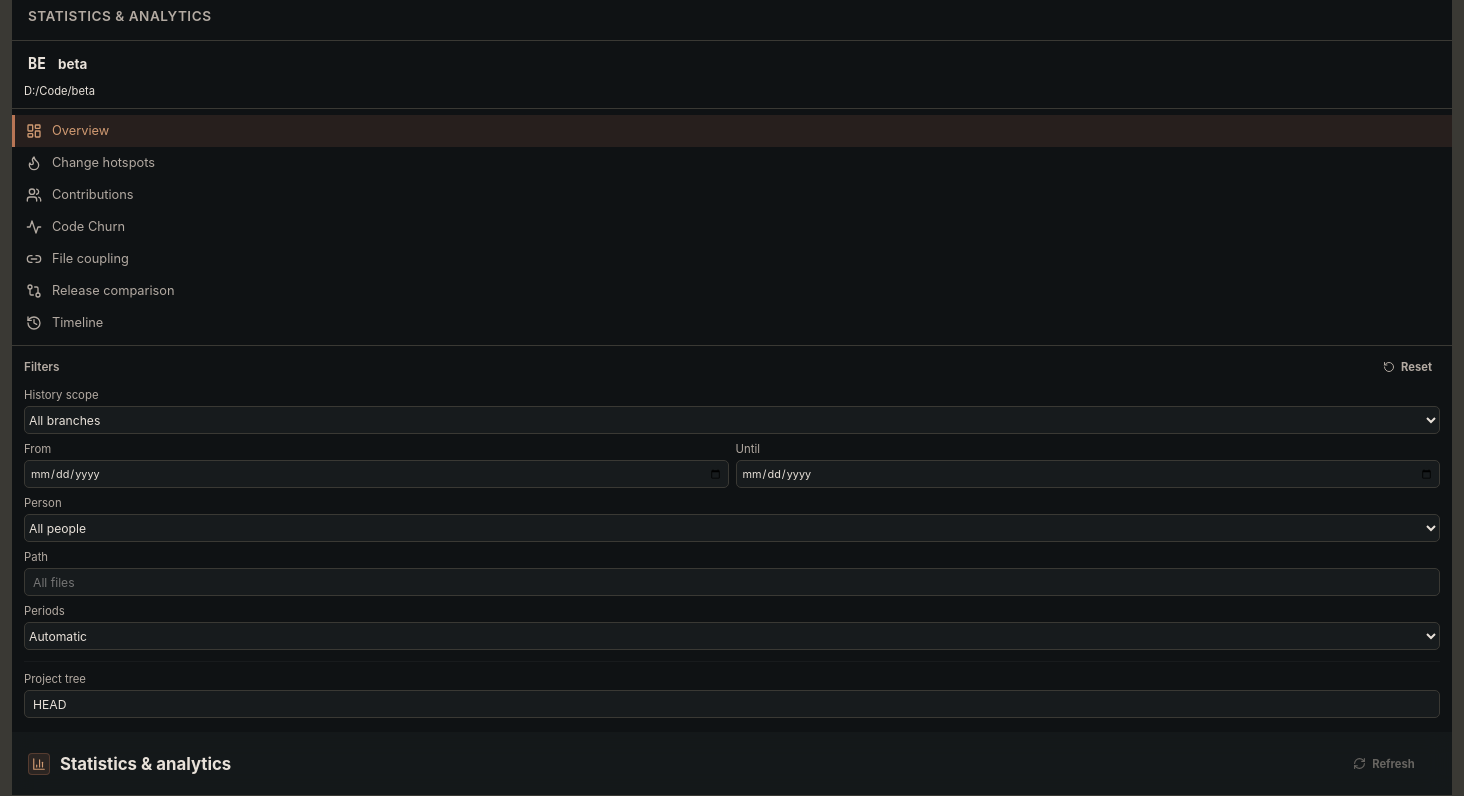
it: standalone analytics navigation › rejects header controls from another repository and clears them when the dashboard unmounts
(page scrolled)
Click the button with class "analytics-refresh-action" at (1384, 764), box [1332, 752, 1436, 774]
(page scrolled)
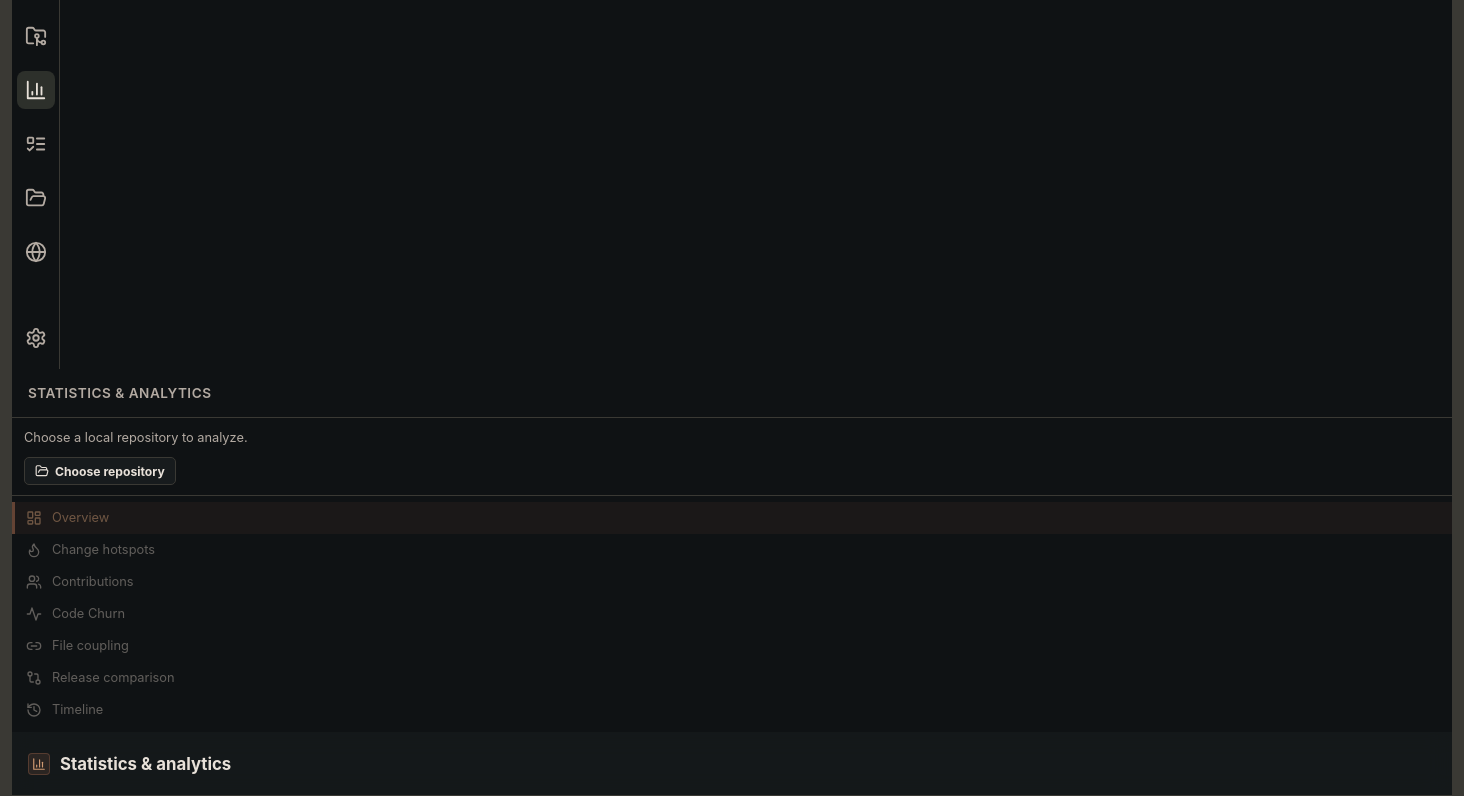
Expected: the element with class "analytics-topbar-actions" is gone
